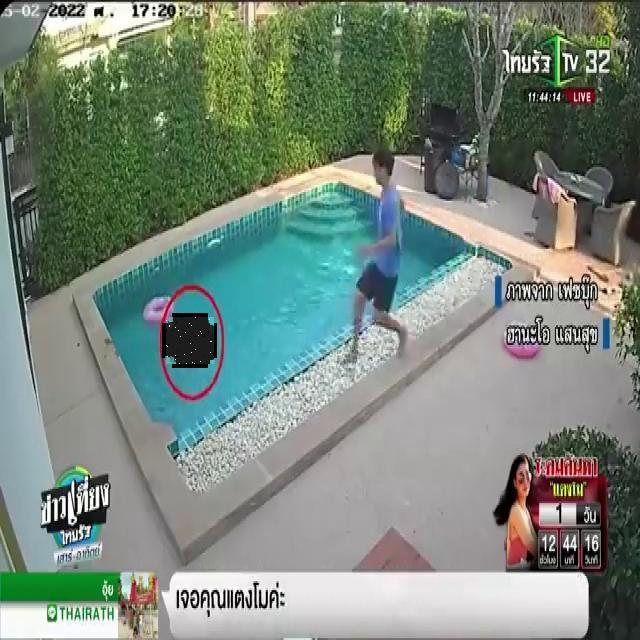Out of Water: (166, 317, 214, 364)
